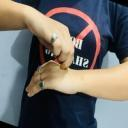hand: (25, 7, 75, 72), (26, 61, 82, 97)
